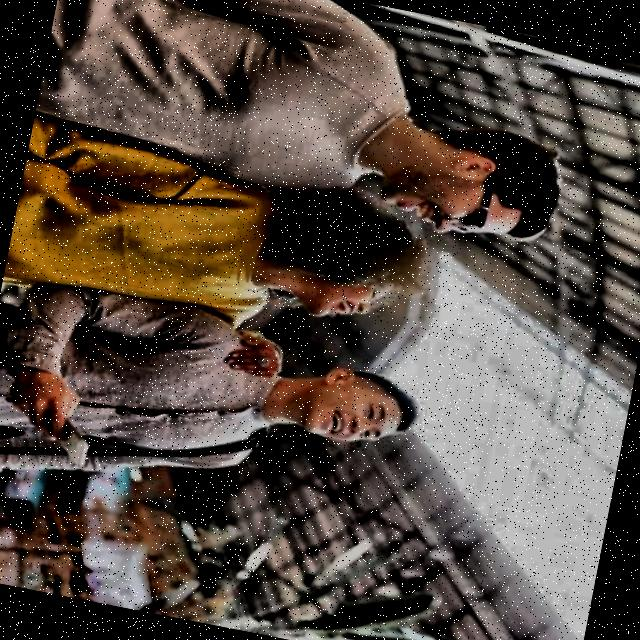happy: (231, 173, 471, 348), (358, 112, 565, 261), (267, 349, 444, 478)
